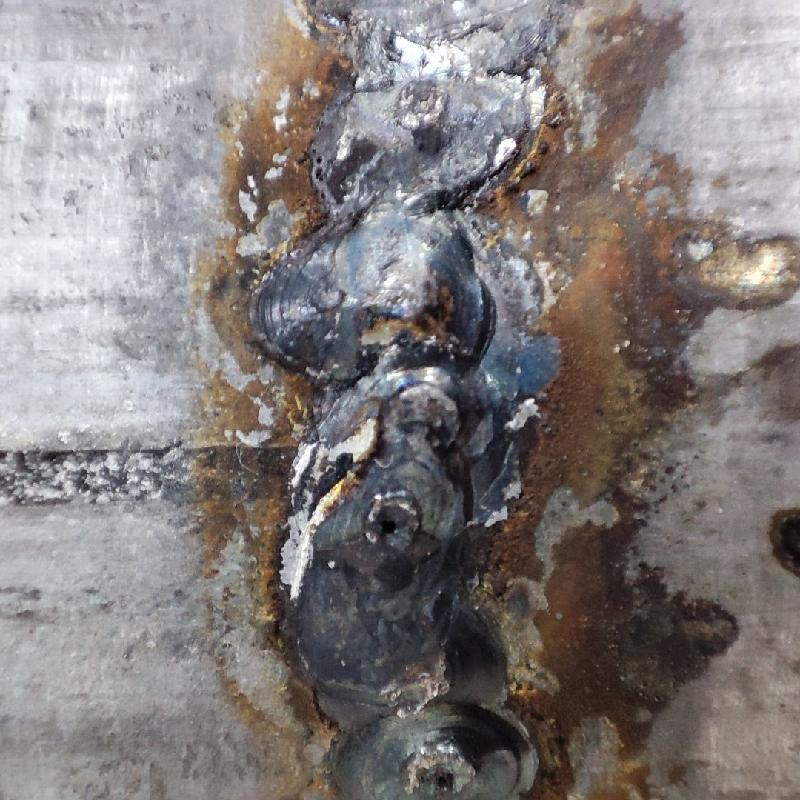Surface_pores: (366, 494, 420, 552), (433, 766, 464, 794)
wrong_size: (290, 4, 540, 794)
